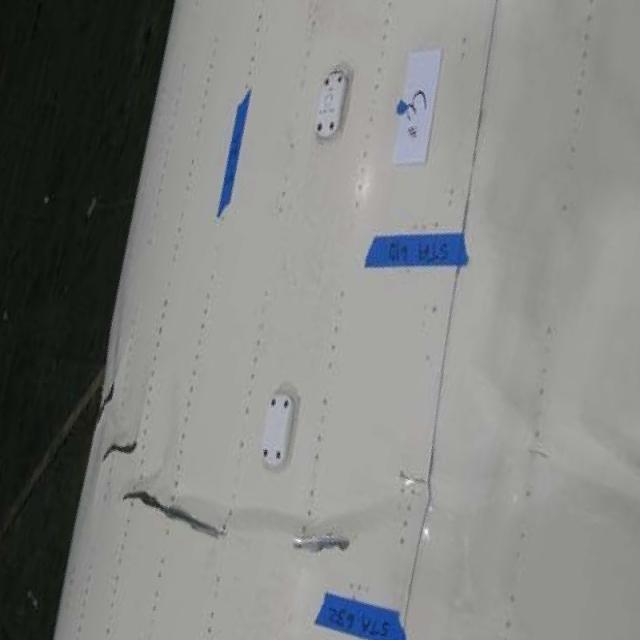crack: (116, 486, 229, 543), (288, 523, 357, 561), (100, 438, 140, 463)
